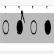correct: (44, 18, 52, 38)
no answer: (2, 18, 10, 37), (30, 17, 37, 38)
not correct: (16, 10, 25, 38)
